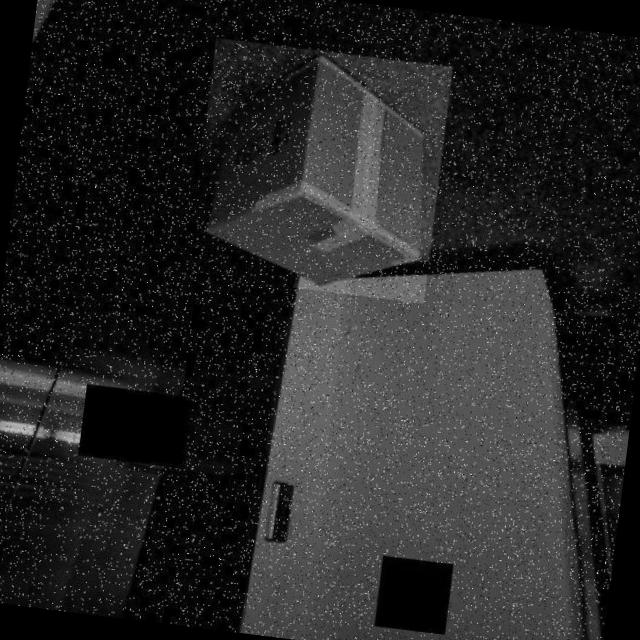box: (187, 38, 452, 303)
